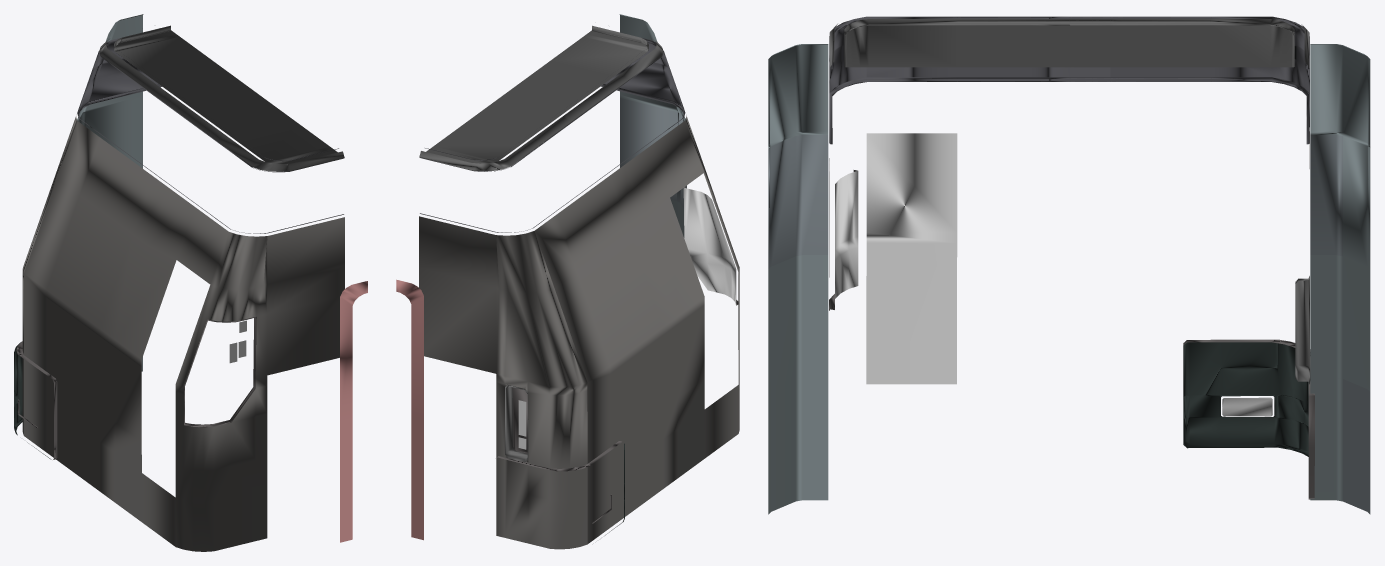
The model's file is addon_cover_b.glb.
3 renders of one model, left to right at view 1: azimuth 30°, elevation 25°; view 2: azimuth 150°, elevation 25°; view 3: azimuth 270°, elevation 25°, orthographic. The views are drawn at different scales.
Bounding box in the file's own units: 16.56 × 36.1 × 40.1.
